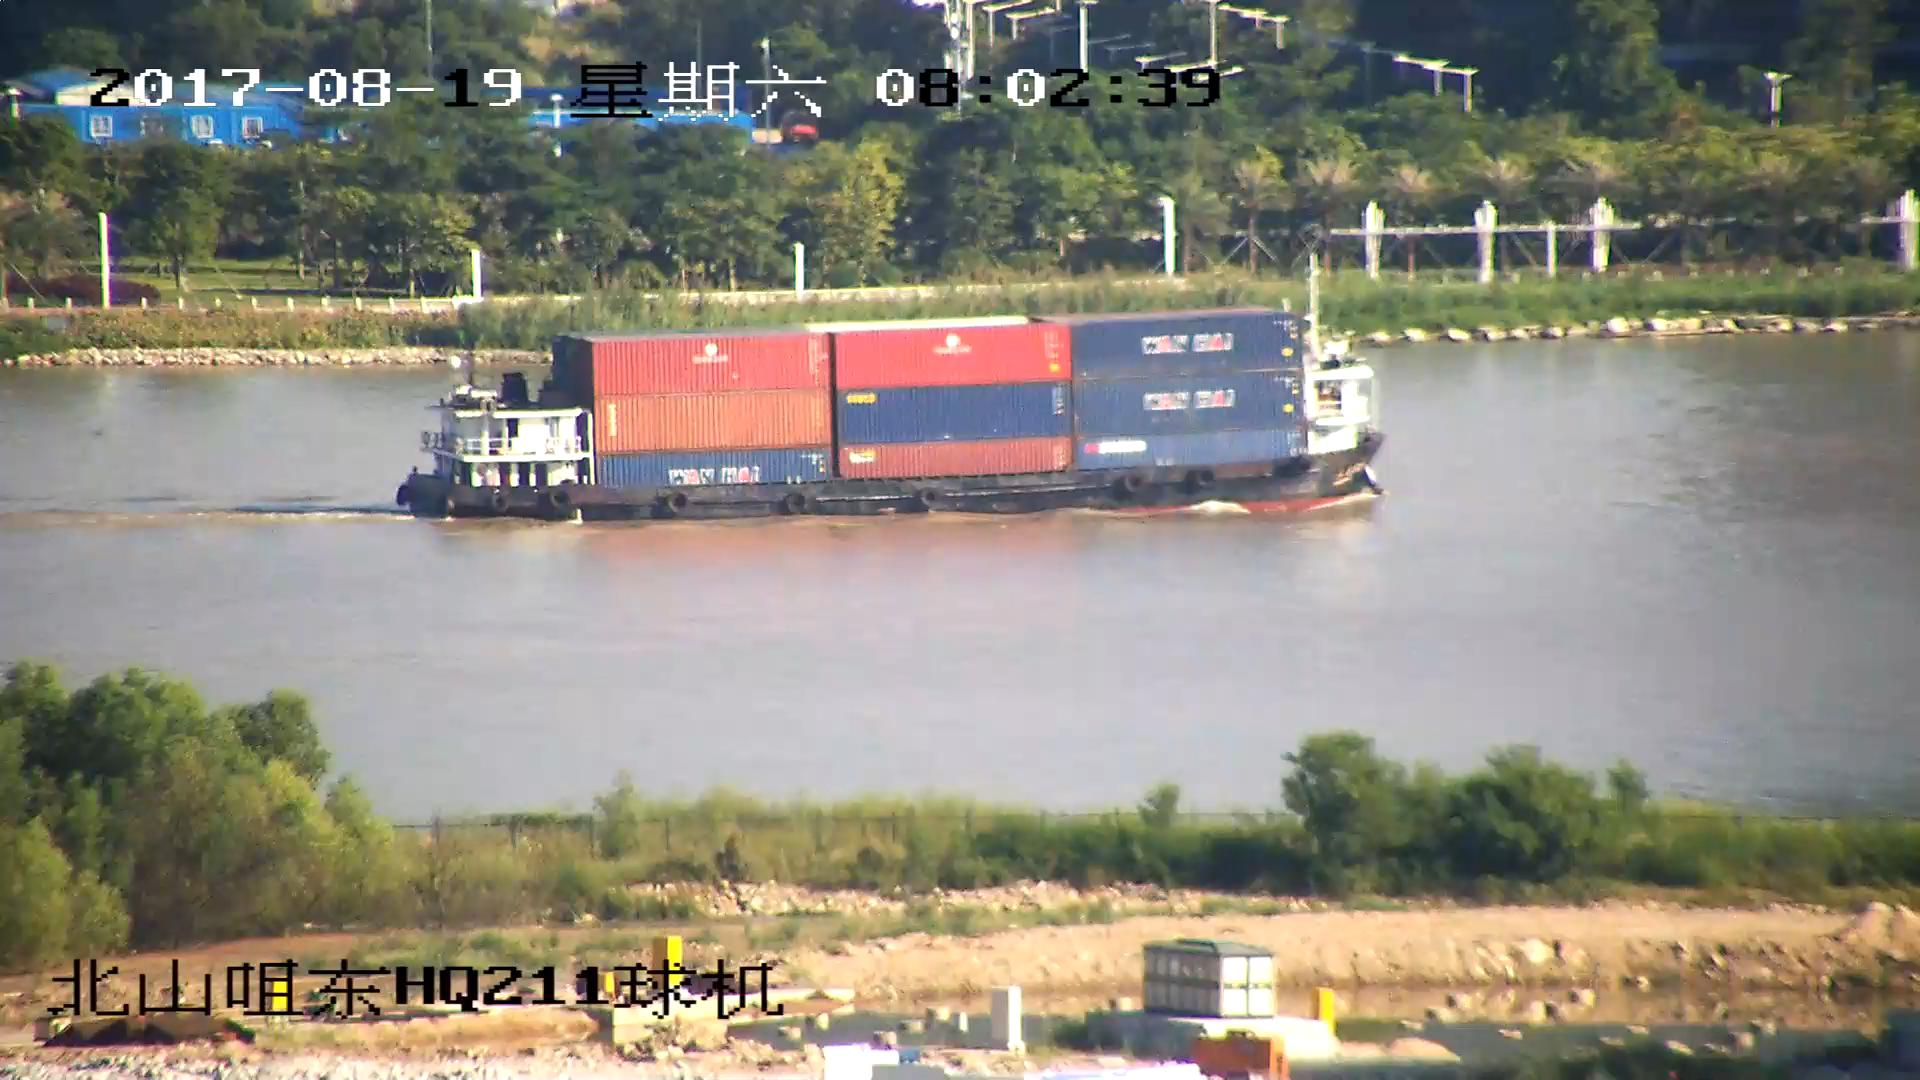container ship: (391, 253, 1385, 526)
